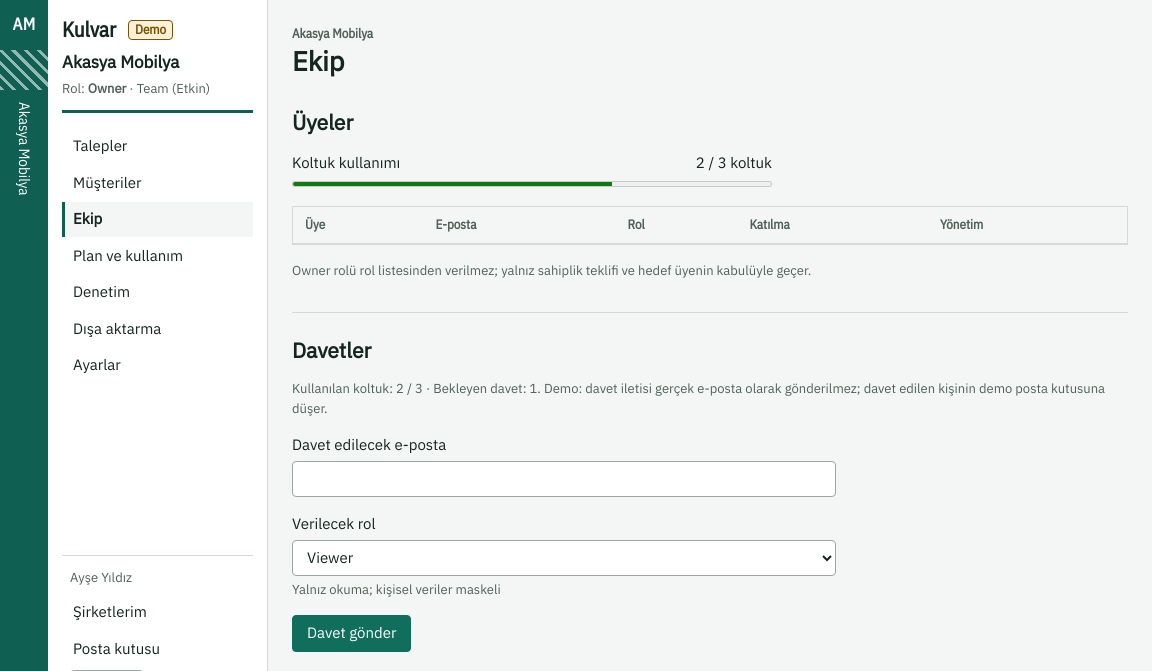
Test: durumlar › koltuk doldu: davet formu aynı kalıbı gösterir
This screenshot has width=1152, height=671.
Type "yeni@ornek.test" into the field labelled "Davet edilecek e-posta". click: (564, 479)
box: [292,461,836,497]
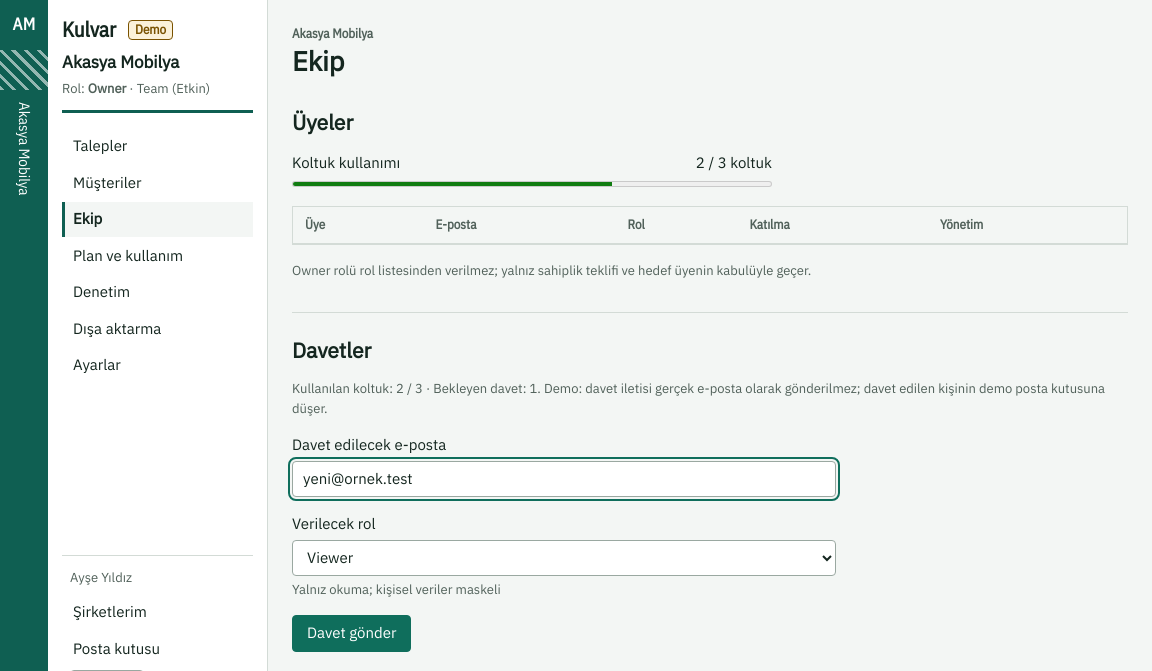
Click the button "Davet gönder". click: (352, 634)
box: [292,615,412,652]
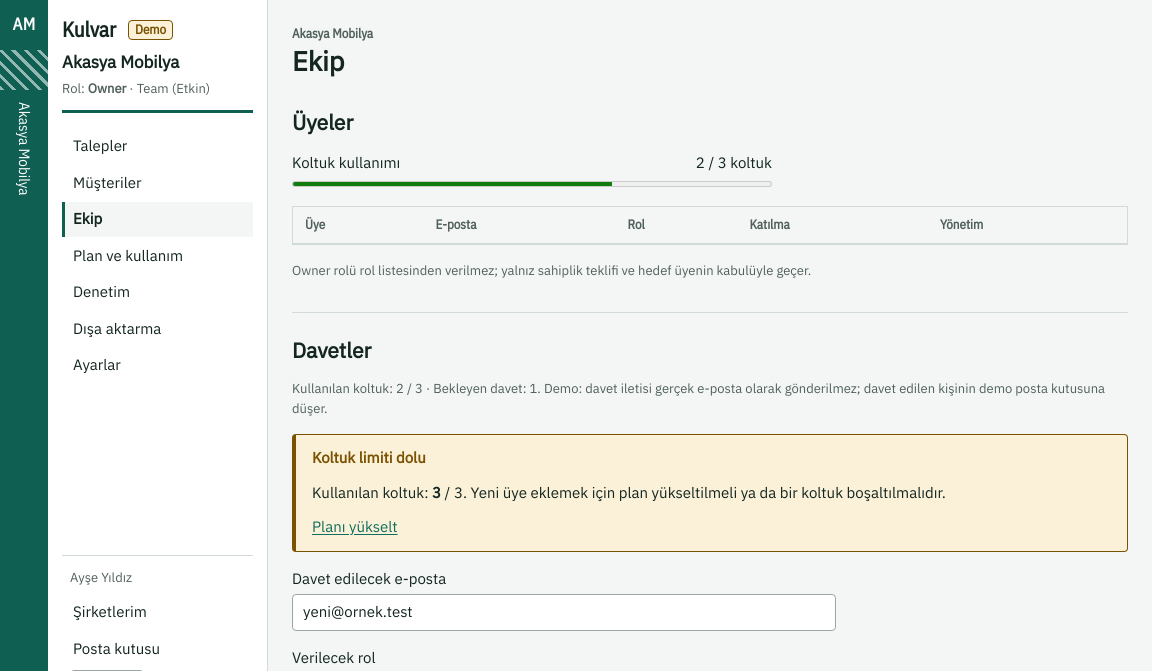
Expected: the text "Koltuk limiti dolu" shows "3 / 3", [292,434,1128,552]
Expected: the link "Planı yükselt" is shown, [312,517,398,536]
